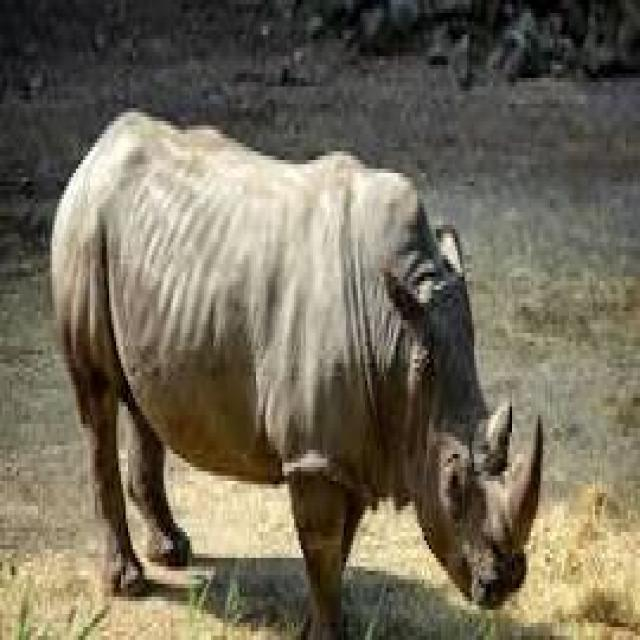Animal: (31, 98, 572, 633)
